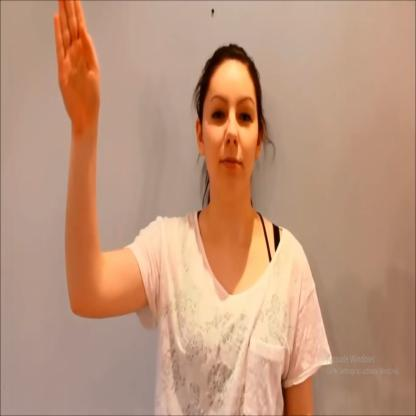Hello: (54, 0, 270, 318)
